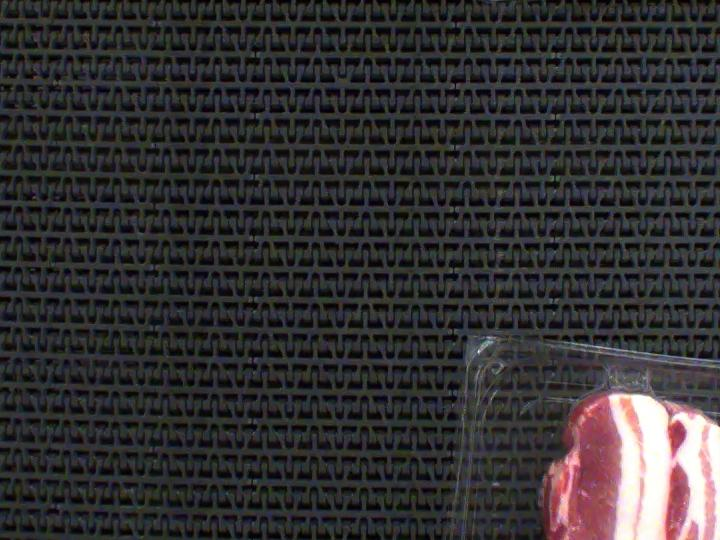packaging-error: (592, 366, 688, 418)
